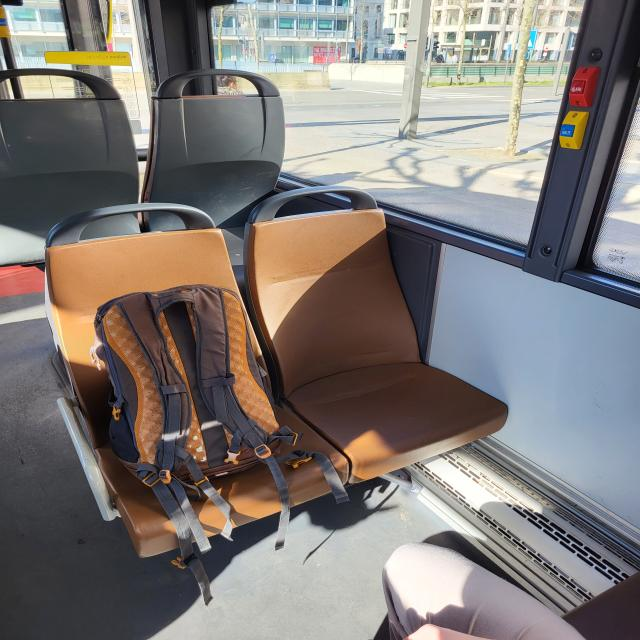empty-seat-frontal: (236, 190, 510, 482)
